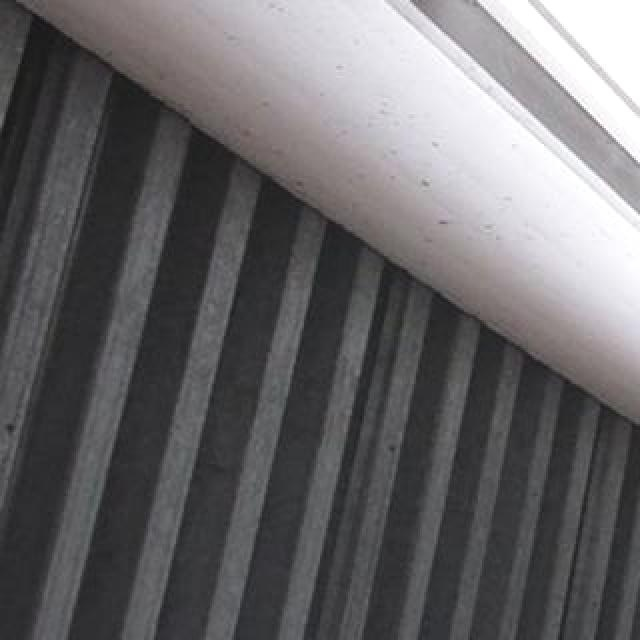fluorescent tube: (156, 0, 640, 508)
